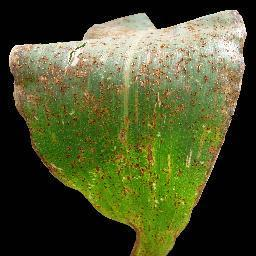Corn_Common_Rust: (6, 2, 249, 256)
